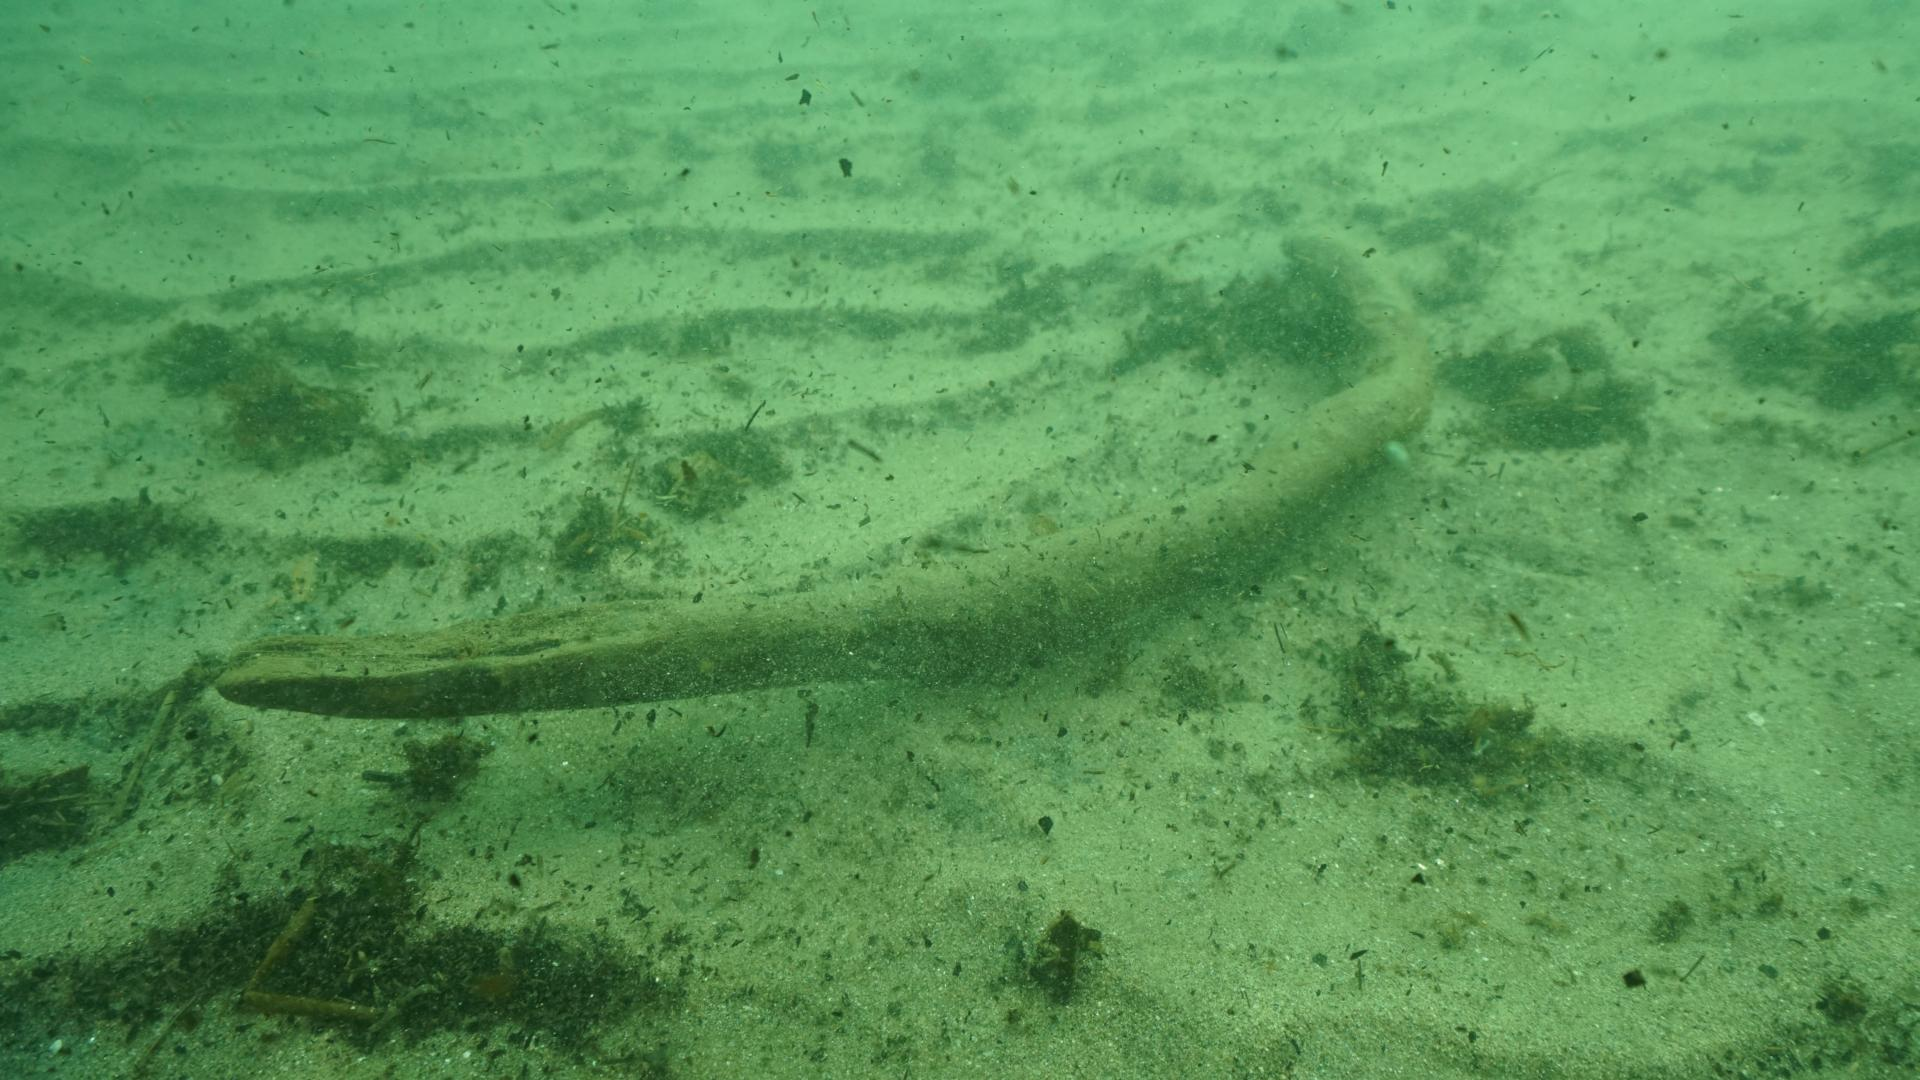wood: (215, 225, 1439, 721)
